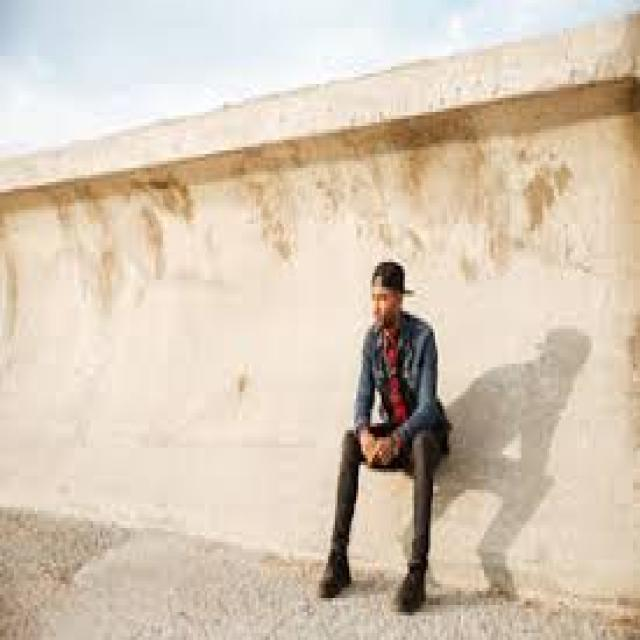cap: (368, 262, 417, 343)
